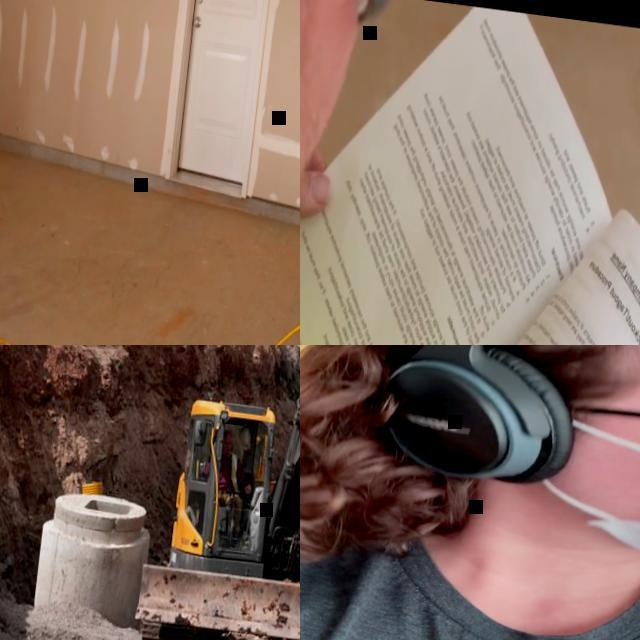vest: (226, 452, 242, 493)
